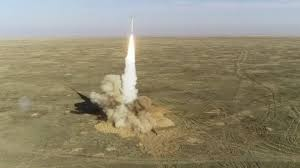ten_lua: (129, 17, 136, 34)
